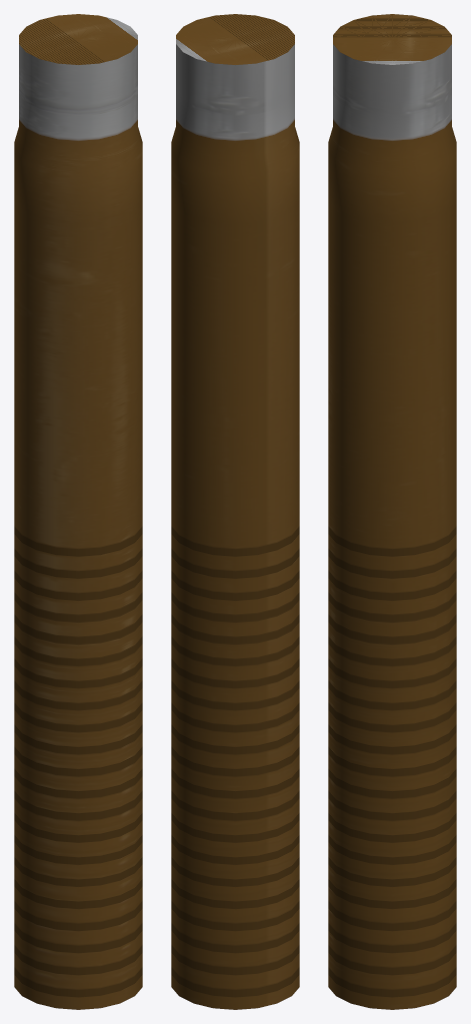
Rendered from nunchaku handle.FBX.
3 renders of one model, left to right at view 1: azimuth 30°, elevation 25°; view 2: azimuth 210°, elevation 25°; view 3: azimuth 270°, elevation 25°, orthographic.
Parts seen in each view (by area): view 1: Cylinder001; view 2: Cylinder001; view 3: Cylinder001.
Part boxes in pixels (left/top/right/bottom): Cylinder001: left=14, top=14, right=142, bottom=1009; Cylinder001: left=171, top=14, right=299, bottom=1009; Cylinder001: left=328, top=14, right=456, bottom=1009.
Size of the model in its own units: 30 by 240 by 29.54.
